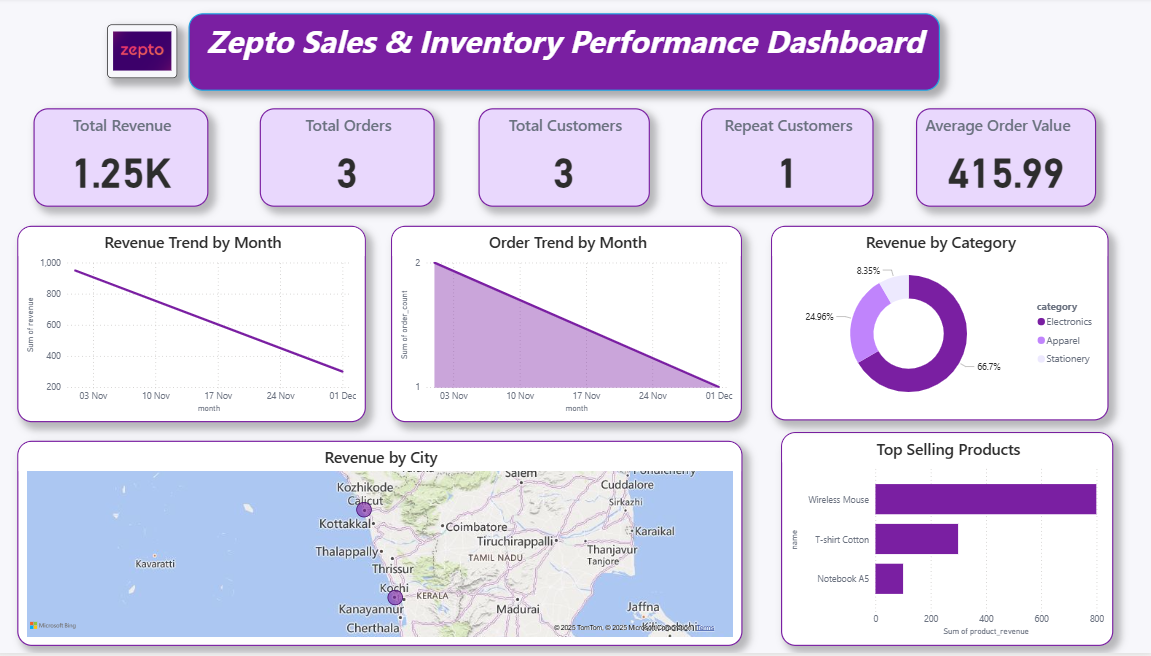

The page's visual inventory and layout, read from the dashboard file:
{"tool":"powerbi","page":{"name":"Page 1","canvas":[1600,900],"ordinal":0},"visuals":[{"type":"lineChart","title":"Revenue Trend by Month","fields":{"Y":["Sum(revenue_month.revenue)"],"Category":["revenue_month.month"]},"box":[42.9,327.6,478.6,269.3],"z":0},{"type":"areaChart","title":"Order Trend by Month","fields":{"Category":["orders_by_month.month"],"Y":["Sum(orders_by_month.order_count)"]},"box":[569.5,327.6,461.4,269.3],"z":1000},{"type":"clusteredBarChart","title":"Top Selling Products","fields":{"Category":["top_products.name"],"Y":["Sum(top_products.product_revenue)"]},"box":[1104.6,596.9,435.7,293.3],"z":2000},{"type":"donutChart","title":"Revenue by Category","fields":{"Category":["revenue_by_category.category"],"Y":["Sum(revenue_by_category.category_revenue)"]},"box":[1077.2,315.6,463.1,267.6],"z":3000},{"type":"map","title":"Revenue by City","fields":{"Category":["revenue_by_citys.city"],"Size":["CountNonNull(revenue_by_citys.total_revenue)"]},"box":[42.9,627.8,1010.3,245.3],"z":4000},{"type":"card","title":"Total Revenue","fields":{"Values":["Sum(total_revenue.total_revenue)"]},"box":[58.3,152.7,240.1,135.5],"z":5000},{"type":"card","title":"Total Orders","fields":{"Values":["Sum(total_orders.total_orders)"]},"box":[368.8,152.7,240.1,135.5],"z":6000},{"type":"card","title":"Total Customers","fields":{"Values":["Sum(total_customers.total_customers)"]},"box":[669,152.7,235,135.5],"z":7000},{"type":"card","title":"Repeat Customers","fields":{"Values":["Sum(repeat_customers.repeat_customers)"]},"box":[974.3,152.7,236.7,135.5],"z":8000},{"type":"card","title":"Average Order Value","fields":{"Values":["orders_by_month.Average Order Value"]},"box":[1265.9,152.7,250.4,135.5],"z":9000},{"type":"textbox","title":"Zepto Sales & Inventory Performance Dashboard","box":[271,22.3,1030.9,106.3],"z":10000}]}

Visuals, with their boxes in screenshot pixels (x1, y1, x2, y2), scaled from the page's 1600x900 canvas onto the 1151x656 screenshot:
"Revenue Trend by Month" lineChart: (31, 239, 375, 435)
"Order Trend by Month" areaChart: (410, 239, 742, 435)
"Top Selling Products" clusteredBarChart: (795, 435, 1108, 649)
"Revenue by Category" donutChart: (775, 230, 1108, 425)
"Revenue by City" map: (31, 458, 758, 636)
"Total Revenue" card: (42, 111, 215, 210)
"Total Orders" card: (265, 111, 438, 210)
"Total Customers" card: (481, 111, 650, 210)
"Repeat Customers" card: (701, 111, 871, 210)
"Average Order Value" card: (911, 111, 1091, 210)
"Zepto Sales & Inventory Performance Dashboard" textbox: (195, 16, 937, 94)
